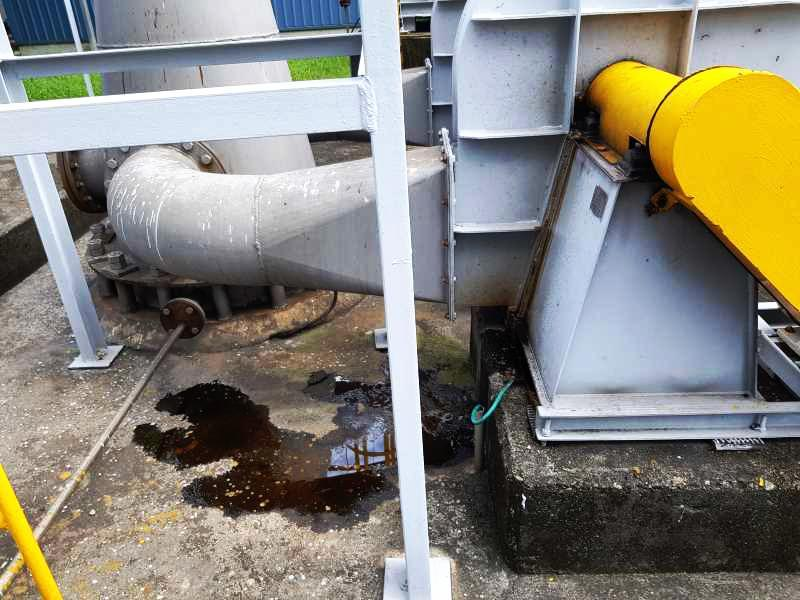water accumulation: (132, 363, 488, 533)
